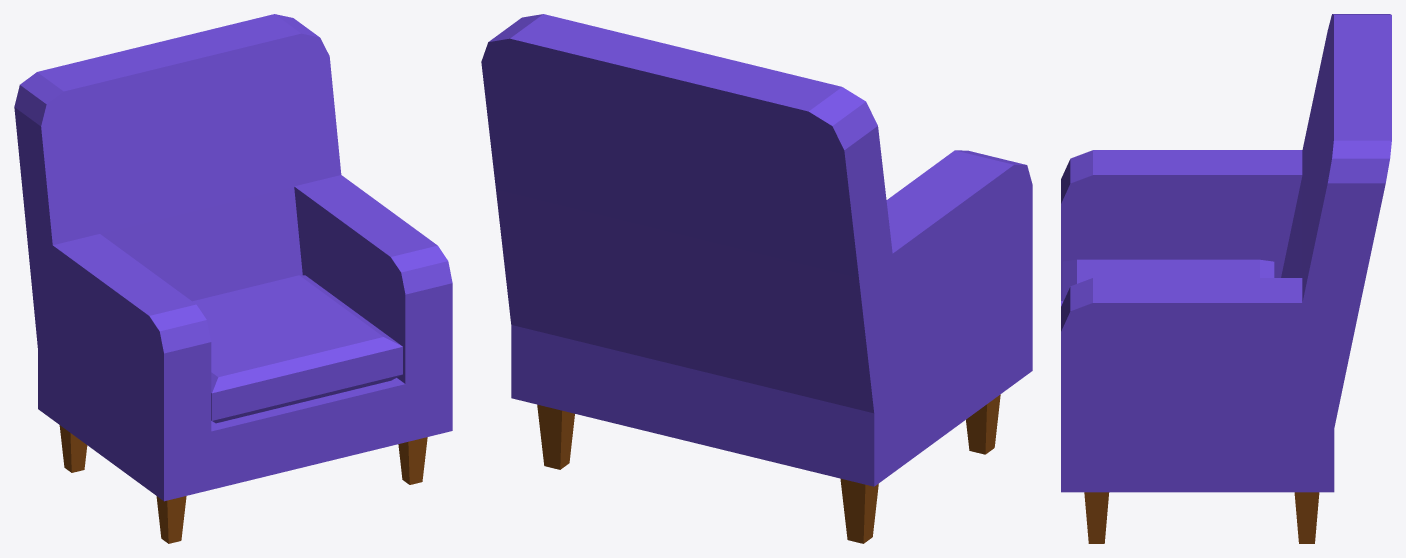
The model's file is Armchair.glb.
The picture shows the model from 3 angles, left to right: view 1: azimuth 30°, elevation 25°; view 2: azimuth 150°, elevation 25°; view 3: azimuth 270°, elevation 25°; orthographic projection. The views are drawn at different scales.
Visible parts, largest first — view 1: Armchair; view 2: Armchair; view 3: Armchair.
Boxes of the visible parts, box(x1,y1,x2,y2) form: Armchair: box(14, 14, 452, 543); Armchair: box(481, 14, 1032, 543); Armchair: box(1061, 14, 1391, 543).
Bounding box in the file's own units: 1.76 × 2.15 × 1.62.
